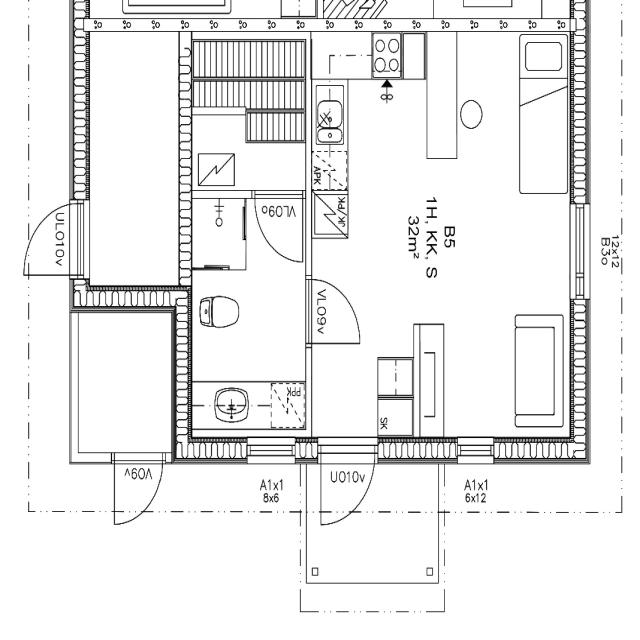door: (19, 198, 79, 281), (110, 448, 170, 530), (307, 275, 362, 354), (319, 454, 376, 528), (255, 192, 303, 268)
window: (568, 203, 592, 304), (71, 200, 90, 279), (245, 438, 299, 464), (456, 436, 496, 462)
zone: (307, 19, 579, 448), (185, 190, 308, 438), (82, 27, 184, 293), (70, 307, 174, 459), (316, 82, 343, 145)
